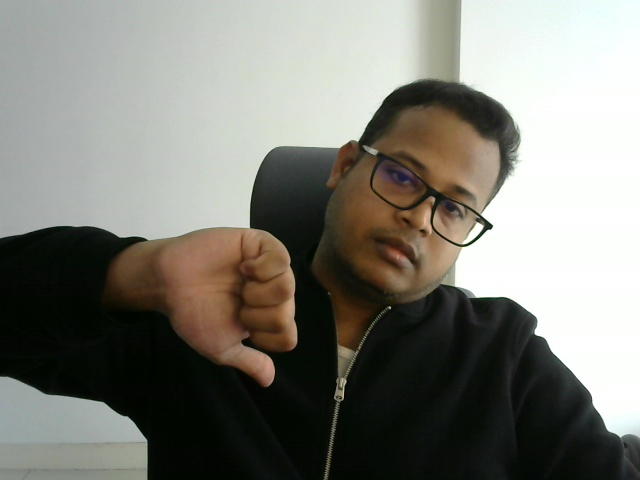ThumbsDown: (169, 228, 298, 387)
